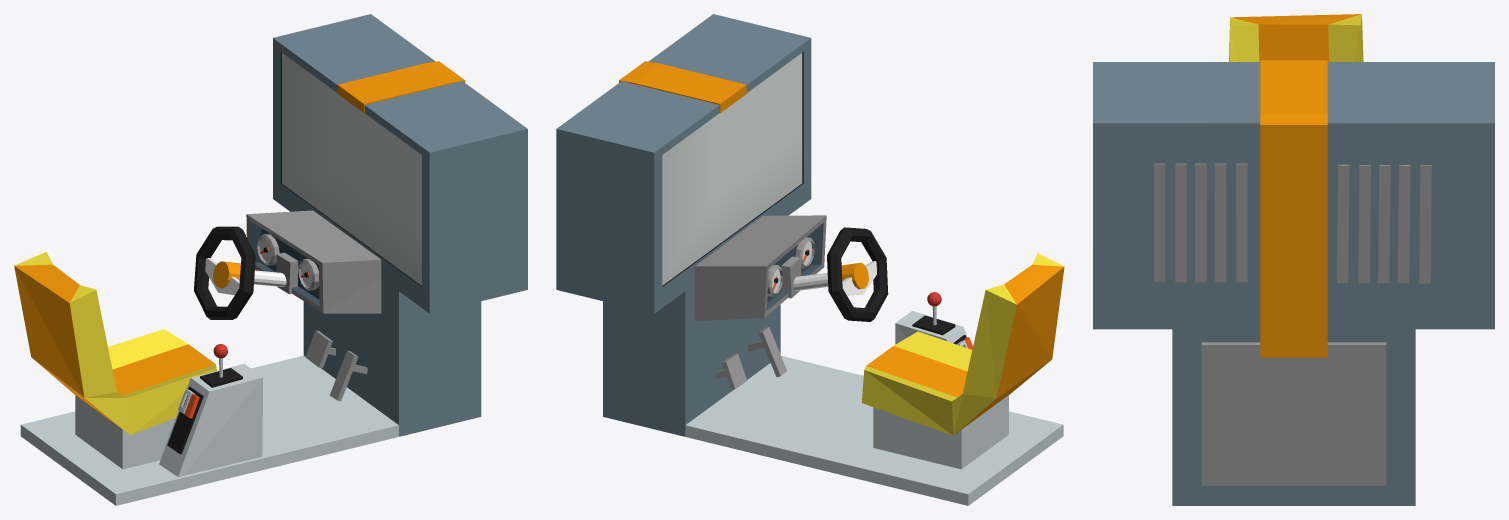
Rendered from interior.glb.
3 views of the same model, side by side, from view 1: azimuth 30°, elevation 25°; view 2: azimuth 150°, elevation 25°; view 3: azimuth 270°, elevation 25° (orthographic). The views are drawn at different scales.
Parts seen in each view (by area): view 1: mesh159342438; view 2: mesh159342438; view 3: mesh159342438.
Boxes of the visible parts, <box> form: mesh159342438: <box>14,14,527,505</box>; mesh159342438: <box>556,14,1064,505</box>; mesh159342438: <box>1093,14,1494,505</box>.
Size of the model in its own units: 3.69 by 2.64 by 2.44.
Materials: 1 (1 with a texture image).
